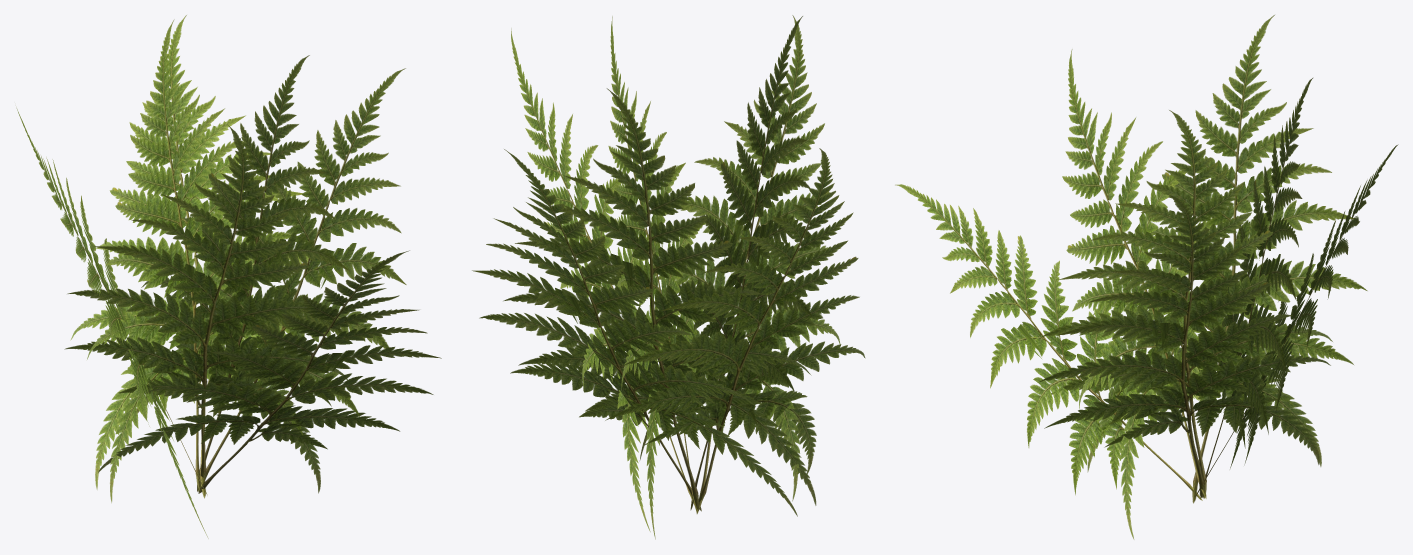
File: fern_1.glb
3 renders of one model, left to right at view 1: azimuth 30°, elevation 25°; view 2: azimuth 150°, elevation 25°; view 3: azimuth 270°, elevation 25°, orthographic. The views are drawn at different scales.
Parts seen in each view (by area): view 1: fern_img.010; view 2: fern_img.010; view 3: fern_img.010.
Boxes of the visible parts, left/top/right/bottom form: fern_img.010: left=16, top=15, right=441, bottom=538; fern_img.010: left=472, top=15, right=865, bottom=539; fern_img.010: left=895, top=15, right=1398, bottom=539.
Bounding box in the file's own units: 3.59 × 4.34 × 4.5.
Materials: 1 (1 with a texture image).
